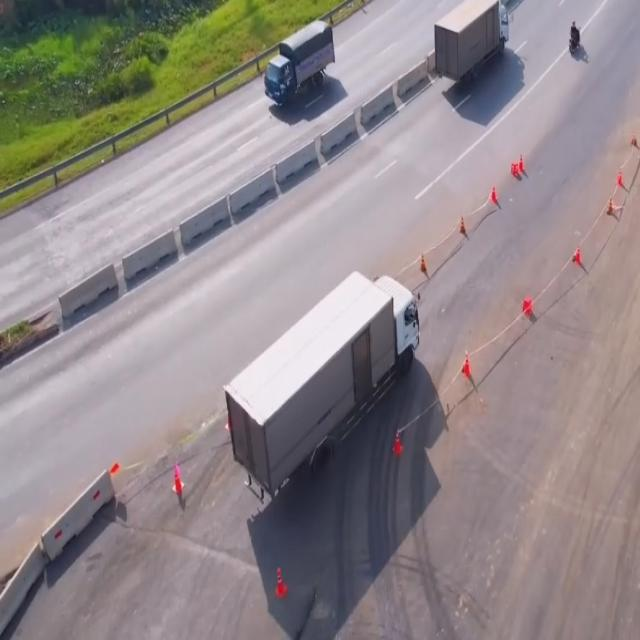truck: (219, 269, 421, 516), (430, 0, 514, 93), (265, 8, 334, 118), (567, 21, 581, 53)
